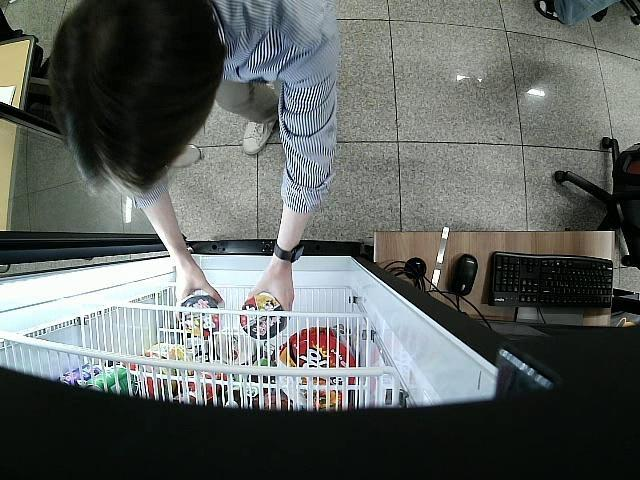08_buldak_S: (178, 292, 218, 342), (240, 297, 289, 337)
